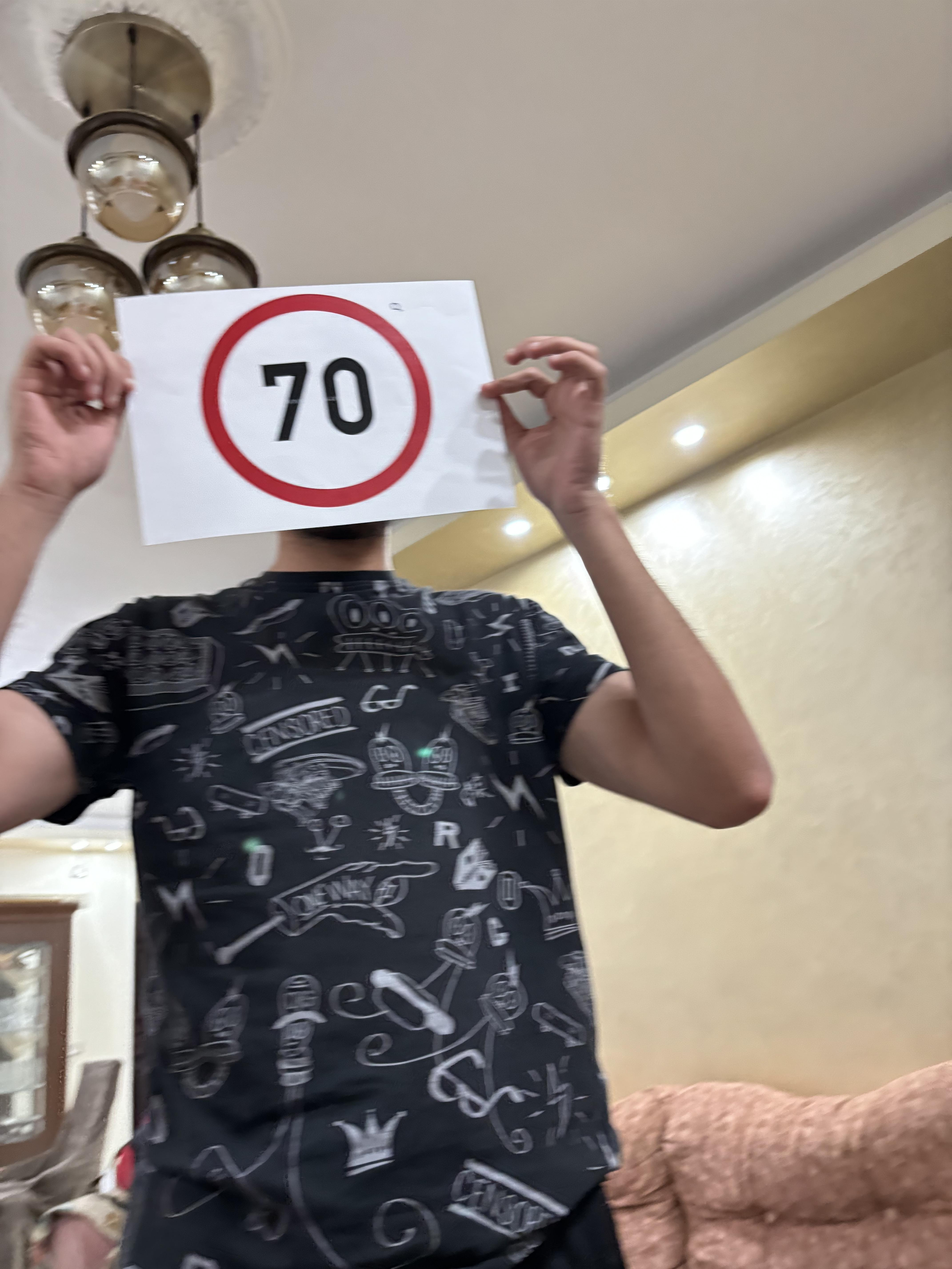70-Speed: (198, 294, 438, 508)
